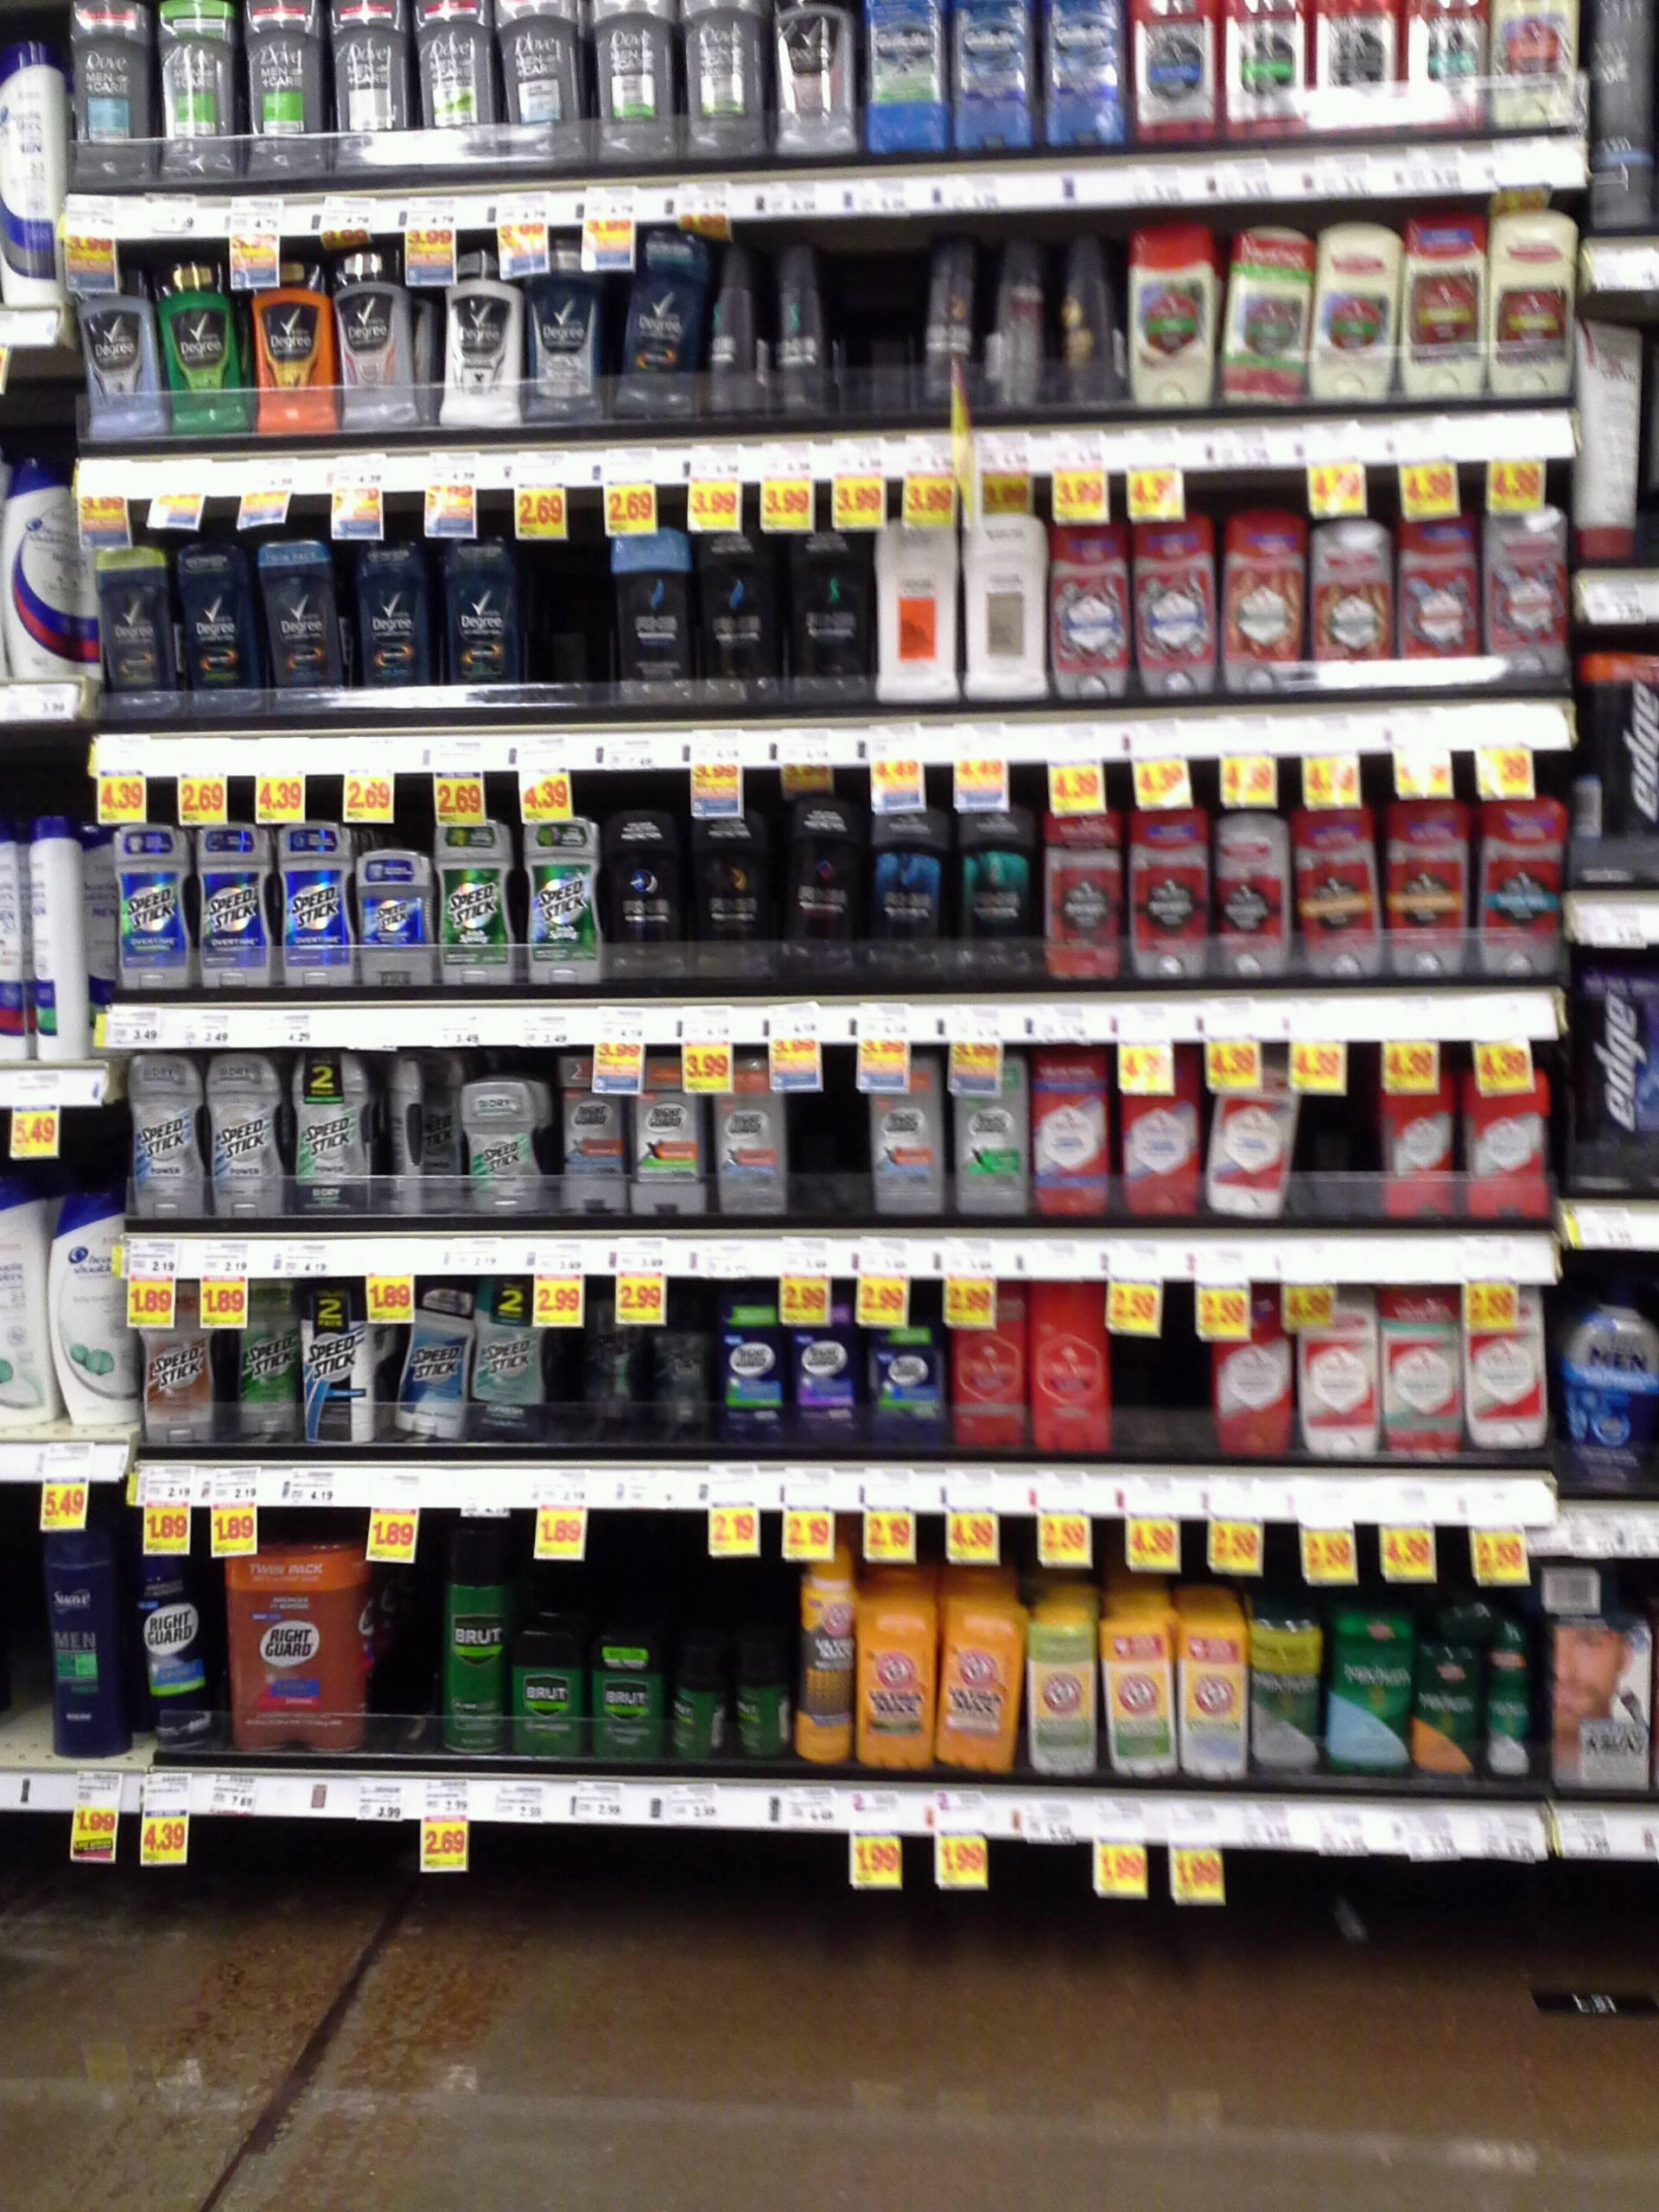empty: (519, 533, 601, 707), (849, 232, 913, 409), (1124, 1317, 1211, 1444), (796, 1066, 864, 1216), (382, 1548, 432, 1749), (1305, 1066, 1371, 1217)
misalignment: (599, 242, 762, 415), (1206, 1055, 1300, 1226), (380, 1054, 469, 1214), (389, 1284, 474, 1435)
